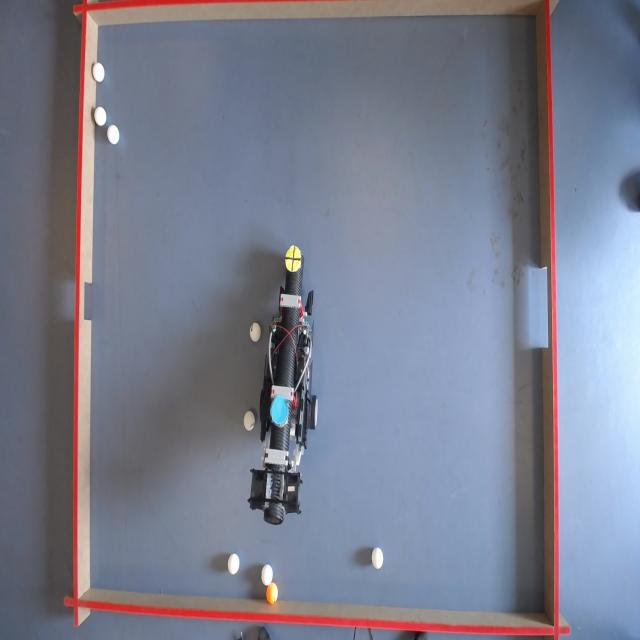orange: (266, 582, 278, 604)
robot: (248, 252, 326, 537)
robot-front: (286, 244, 302, 274)
robot-rear: (270, 395, 290, 425)
white: (262, 564, 276, 588), (372, 548, 386, 571), (107, 124, 120, 146), (229, 554, 242, 576), (92, 62, 105, 84), (249, 322, 262, 342), (94, 106, 107, 126), (243, 410, 255, 431)
